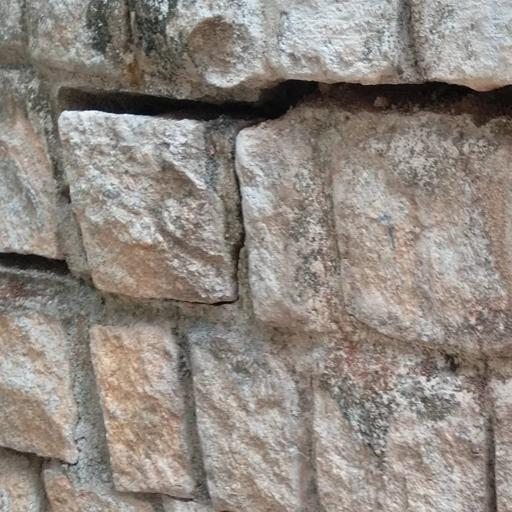major_crack: (0, 18, 512, 323)
